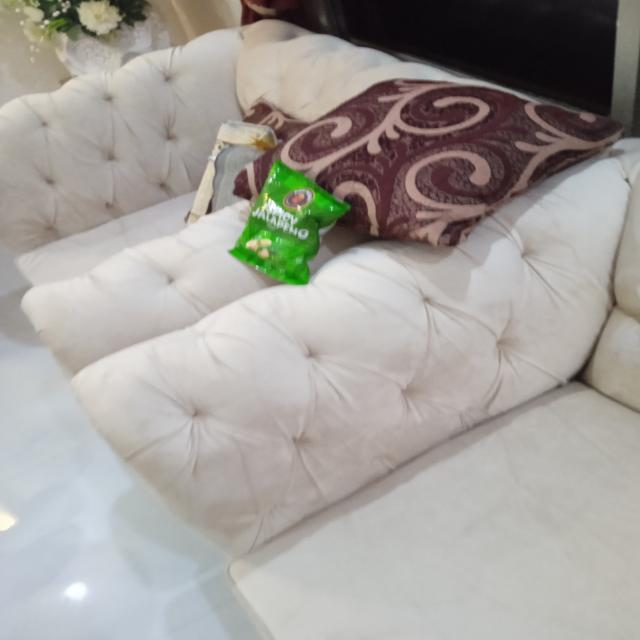Plastic: (230, 162, 353, 288)
